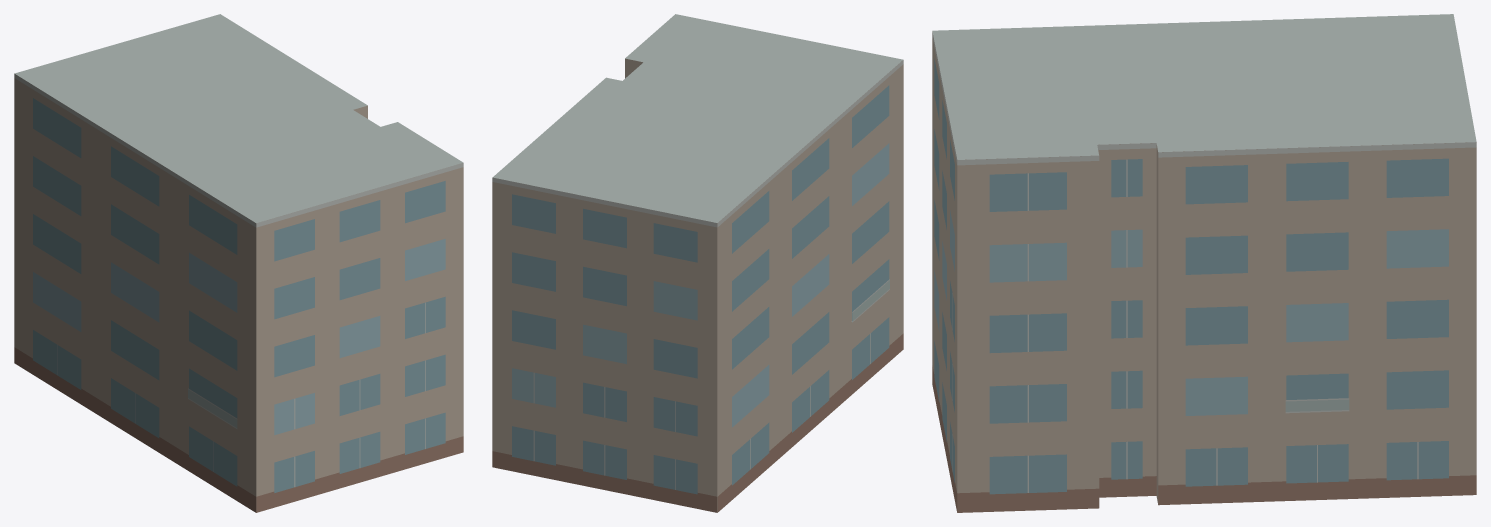
File: survey-upis-32461183.glb
The picture shows the model from 3 angles, left to right: view 1: azimuth 30°, elevation 25°; view 2: azimuth 150°, elevation 25°; view 3: azimuth 270°, elevation 25°; orthographic projection. The views are drawn at different scales.
Visible parts, largest first — view 1: survey-upis-32461183.tmp; view 2: survey-upis-32461183.tmp; view 3: survey-upis-32461183.tmp.
Boxes of the visible parts, x1,y1,x2,y2 form: survey-upis-32461183.tmp: [14, 14, 463, 512]; survey-upis-32461183.tmp: [492, 14, 903, 512]; survey-upis-32461183.tmp: [932, 14, 1476, 512].
Bounding box in the file's own units: 14.26 × 16.05 × 22.45.
